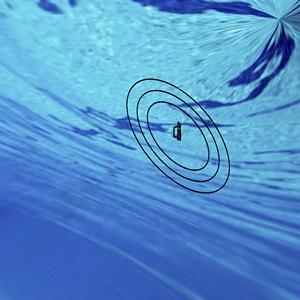circle: (115, 64, 244, 224)
submarine: (160, 116, 185, 149)
